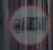Heavy Vehicles: (7, 6, 52, 47)
